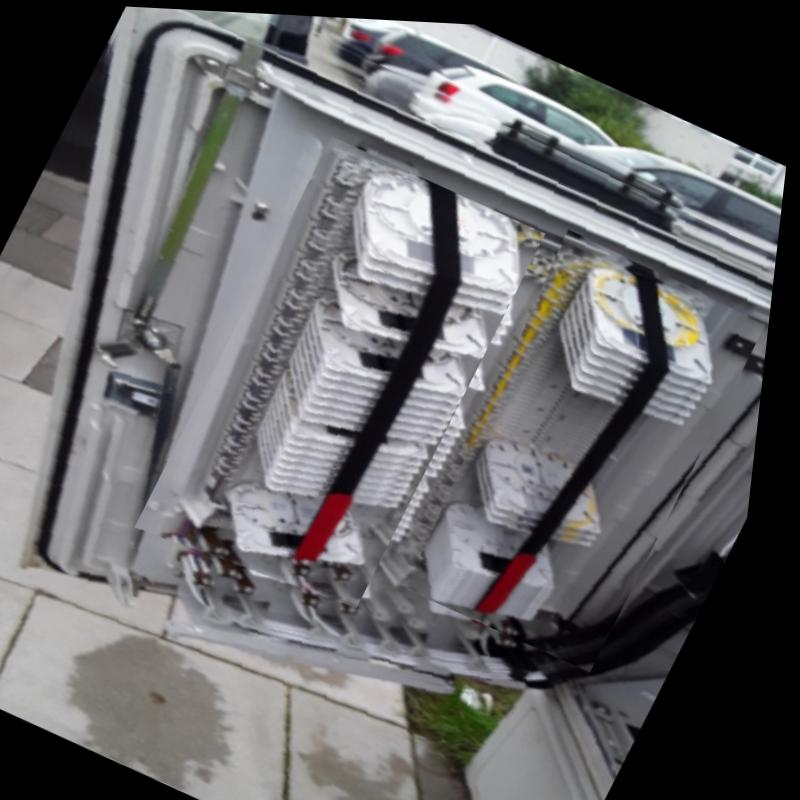NT-Gehause: (39, 5, 779, 800)
Spleiskassetten: (212, 140, 549, 583), (423, 238, 740, 628)
